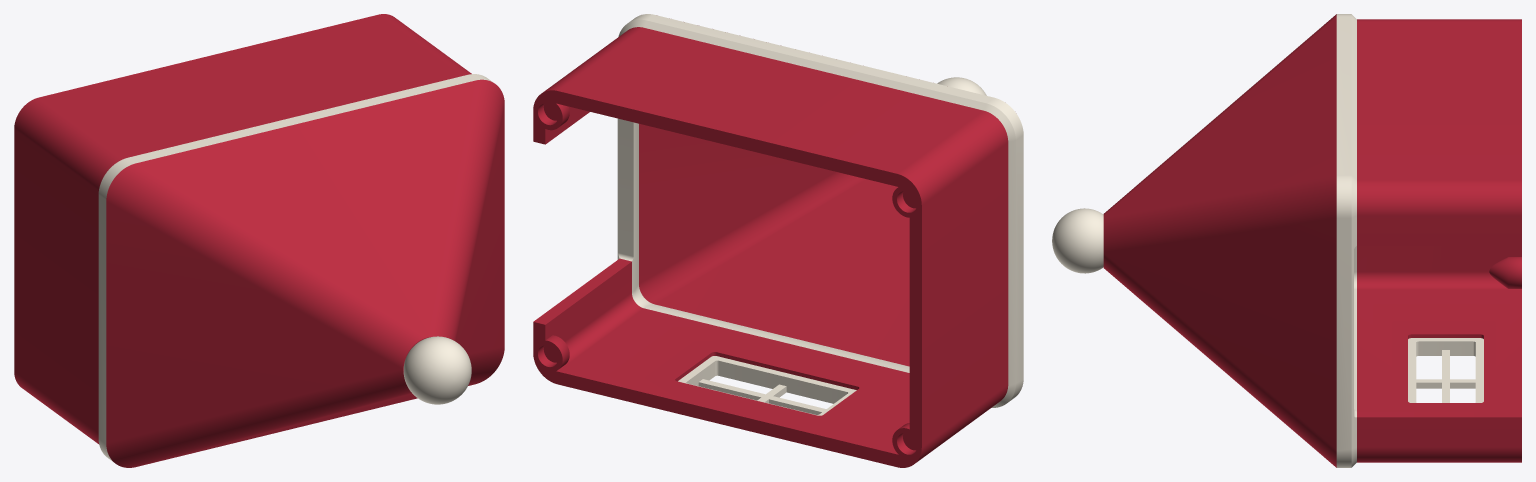
The picture shows the model from 3 angles, left to right: view 1: azimuth 30°, elevation 25°; view 2: azimuth 150°, elevation 25°; view 3: azimuth 270°, elevation 25°; orthographic projection. The views are drawn at different scales.
Parts seen in each view (by area): view 1: G03_ChristmasRed, G03_Snow; view 2: G03_ChristmasRed, G03_Snow; view 3: G03_ChristmasRed, G03_Snow.
Boxes of the visible parts, bbox=[...] form: G03_ChristmasRed: bbox=[14, 14, 504, 467]; G03_Snow: bbox=[98, 74, 493, 461]; G03_ChristmasRed: bbox=[533, 27, 1008, 467]; G03_Snow: bbox=[617, 14, 1023, 415]; G03_ChristmasRed: bbox=[1103, 14, 1521, 467]; G03_Snow: bbox=[1052, 14, 1483, 467].
Size of the model in its own units: 162 by 118 by 173.
